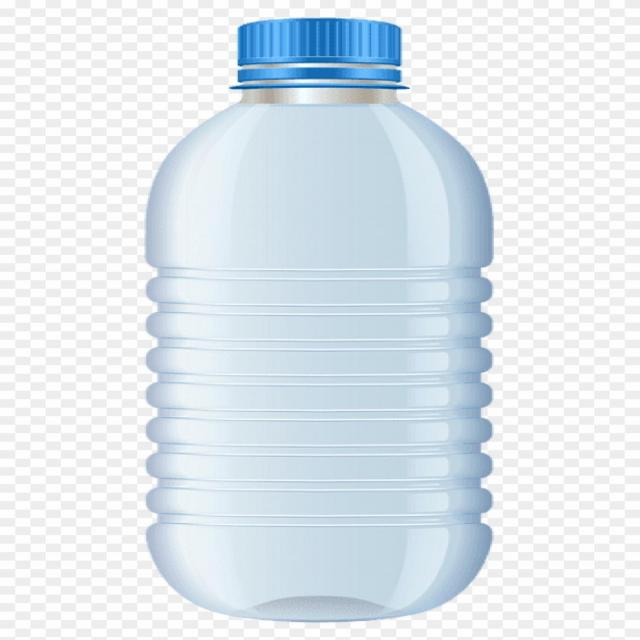bottle: (108, 0, 506, 623)
